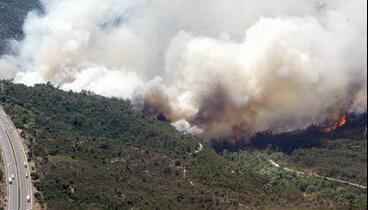fire: (320, 117, 350, 133)
yanwu: (1, 0, 364, 135)
